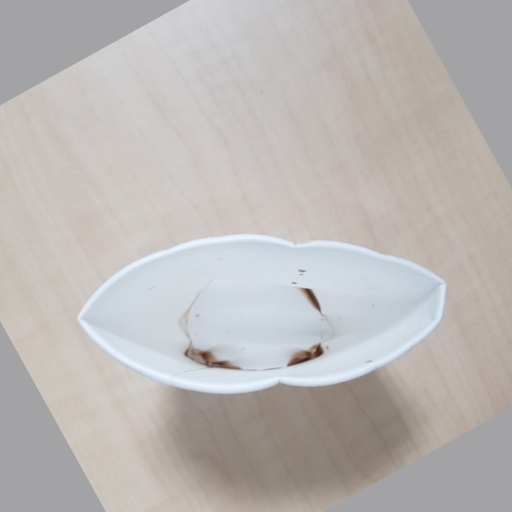Paper_1: (76, 234, 449, 388)
